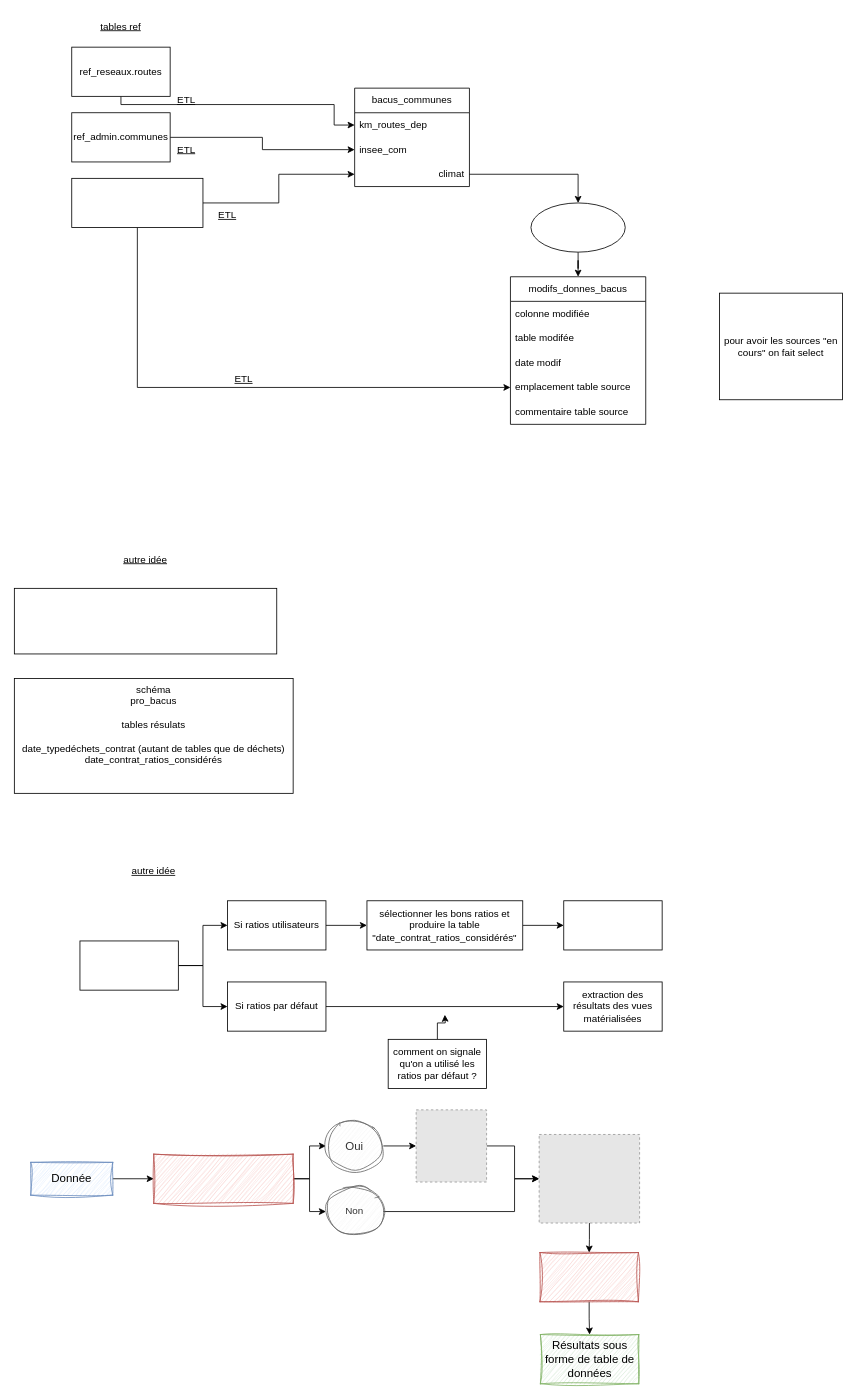
Some shapes in this 857 by 1398 pixel diagram are drawn without their labels. Grey dashed boxes stand in for pictures. Here are the shapes that lost their labels. From the top down, the centre of each, then its label:
At point 137,203: "ref_environnement.climat".
At point 577,227: "Si modification".
At point 145,621: "schéma app_bacus tables ci-dessus".
At point 612,925: "on fait retourner les calculs pour ces ratios et ces villes".
At point 128,965: "récupération codes insee".
At point 223,1178: "A-t-on besoin de nettoyer / restructurer la donnée ?".
At point 588,1277: "Calculs en SQL".
